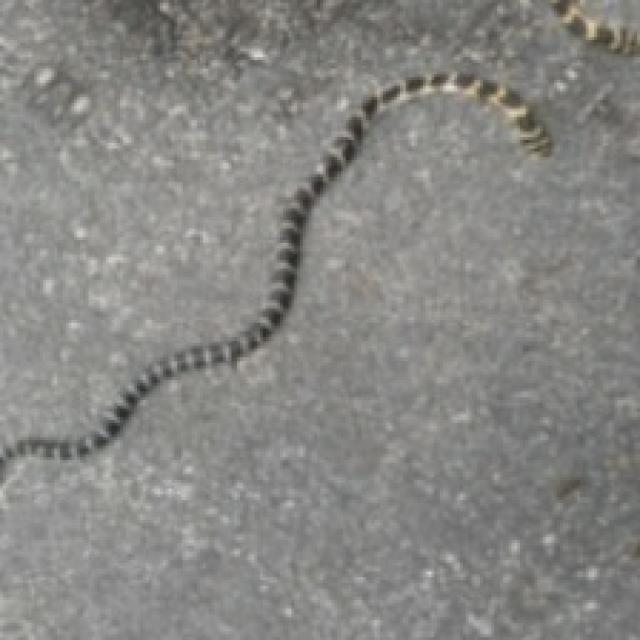king cobra: (0, 71, 549, 480)
